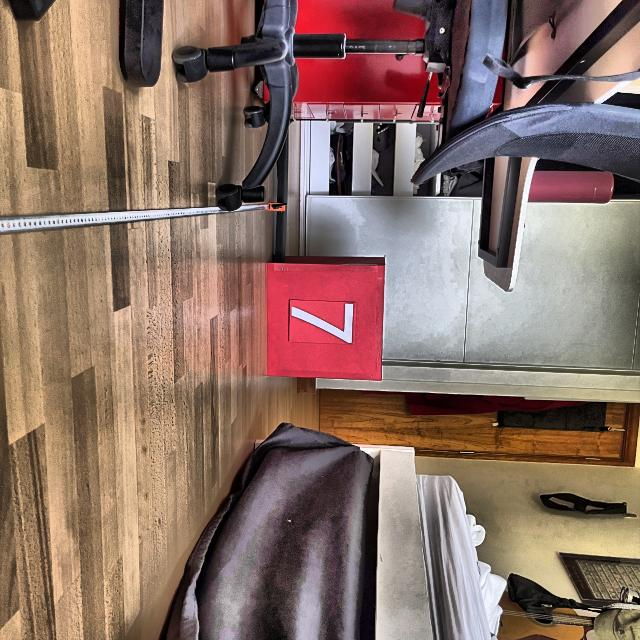red box: (268, 253, 385, 383)
seven: (291, 302, 354, 343)
